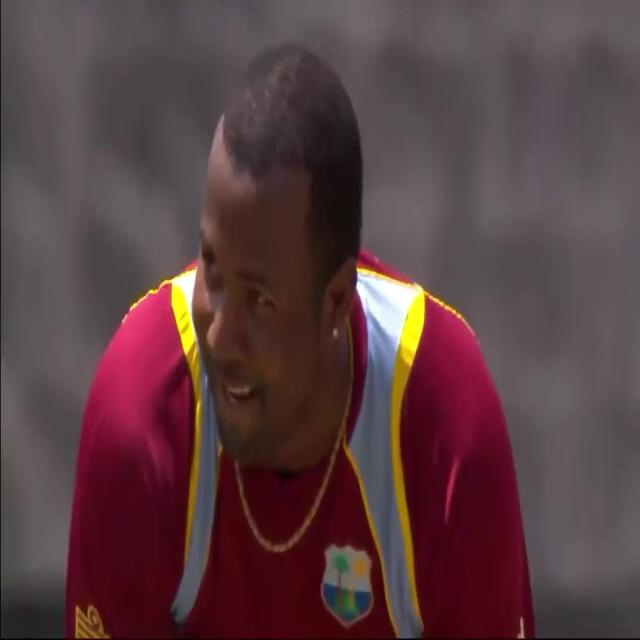Fielder: (55, 4, 550, 638)
